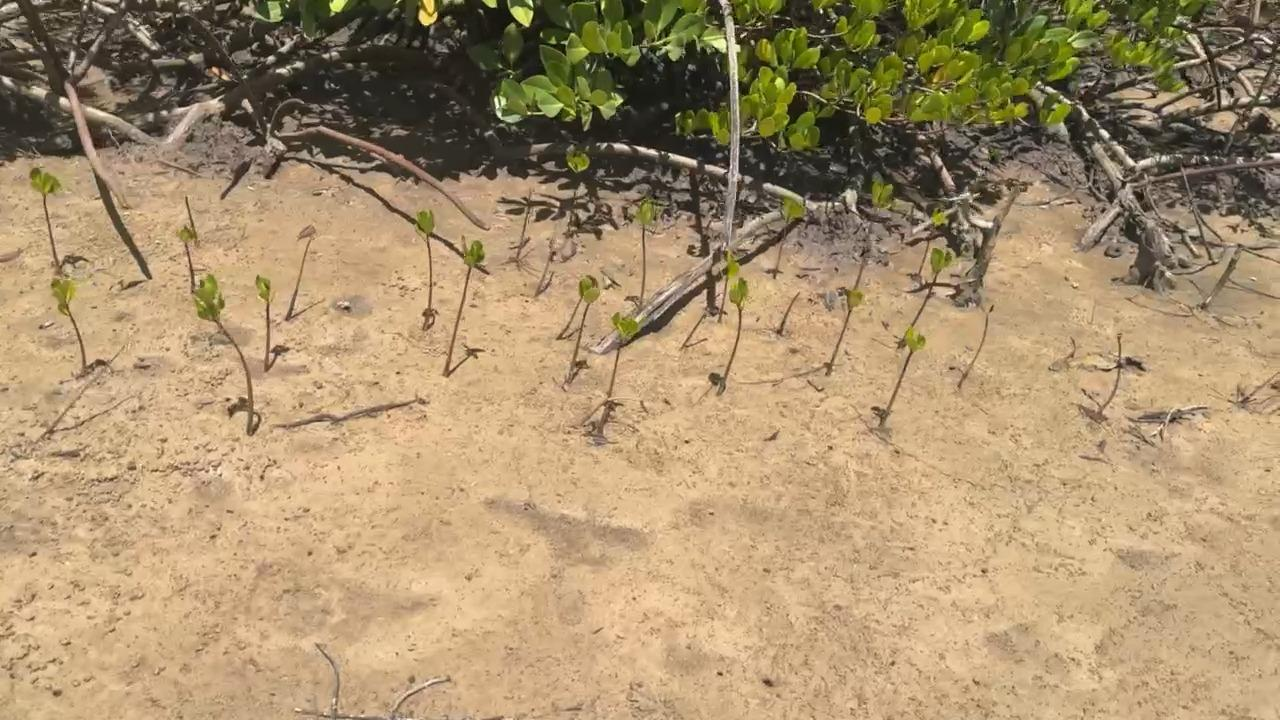Tree: (192, 273, 254, 435), (442, 237, 486, 378), (900, 248, 955, 348), (882, 326, 927, 426), (855, 178, 893, 289), (718, 279, 751, 396), (50, 275, 87, 369), (826, 290, 865, 374), (958, 304, 996, 389), (29, 167, 61, 267), (570, 276, 601, 372), (287, 223, 317, 322), (415, 210, 436, 330), (775, 198, 808, 271), (635, 199, 655, 305), (919, 208, 949, 275), (565, 150, 587, 236), (255, 275, 274, 371), (718, 251, 741, 320), (177, 226, 196, 293), (558, 292, 582, 339), (517, 191, 532, 258), (778, 289, 800, 334), (534, 251, 554, 300), (681, 314, 707, 347), (184, 195, 196, 233)
